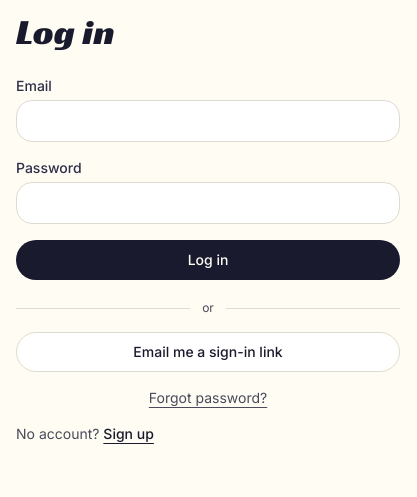
Test: LoginPage › maps invalid credentials to a friendlier message
The width and height of the screenshot is (417, 497).
In the field labelled "Email": (208,121) 16,100 -> 400,142, type "a@example.com"
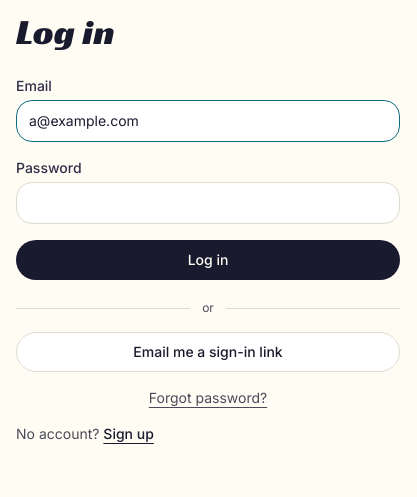
In the password field labelled "Password": (208,203) 16,182 -> 400,224, type "wrong"
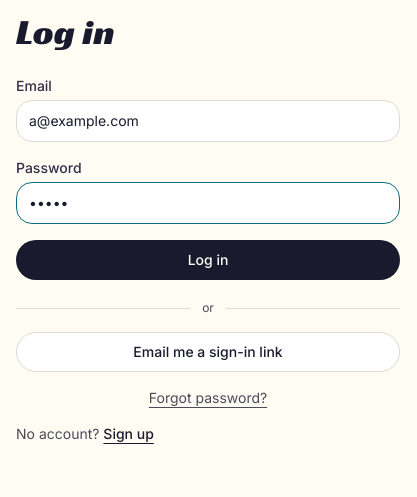
Click the button "Log in": (208,260) 16,240 -> 400,280
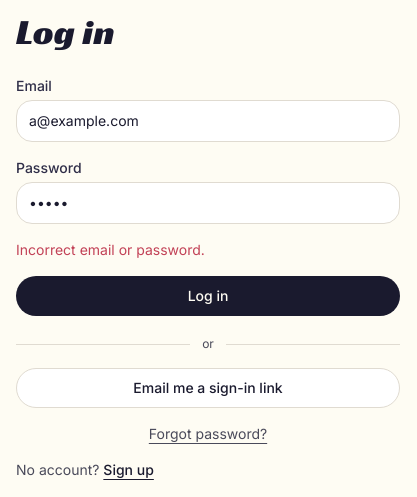
Check: the text "Incorrect email or password." is shown, box 16,241 -> 205,258
